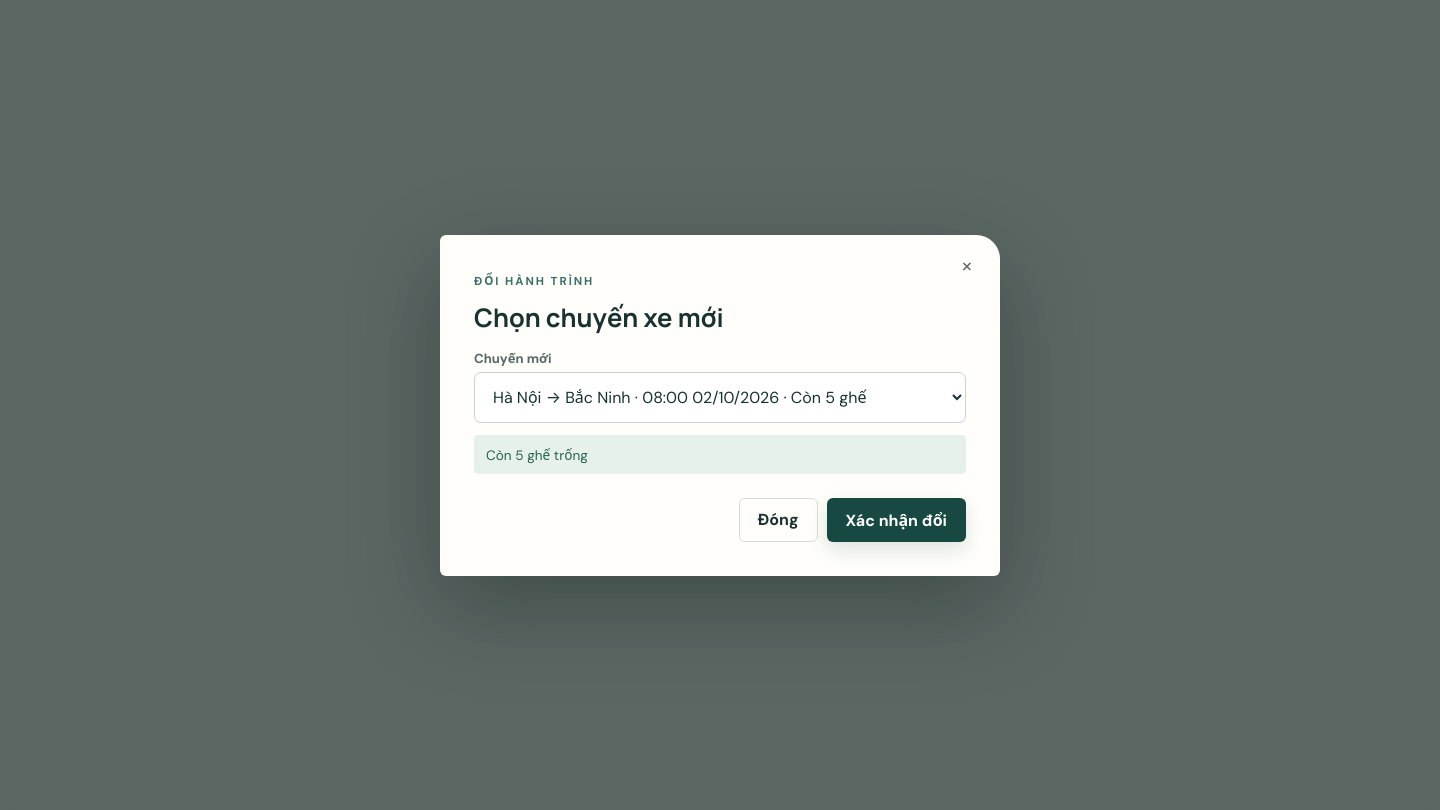
ChangeTripModal › không cho xác nhận chuyến hết ghế
The width and height of the screenshot is (1440, 810).
Select "Hà Nội → Hải Phòng · 09:00 03/10/2026 · Hết ghế" in the dropdown labelled "Chuyến mới". click: {"x": 720, "y": 397}
box: [474,372,966,422]
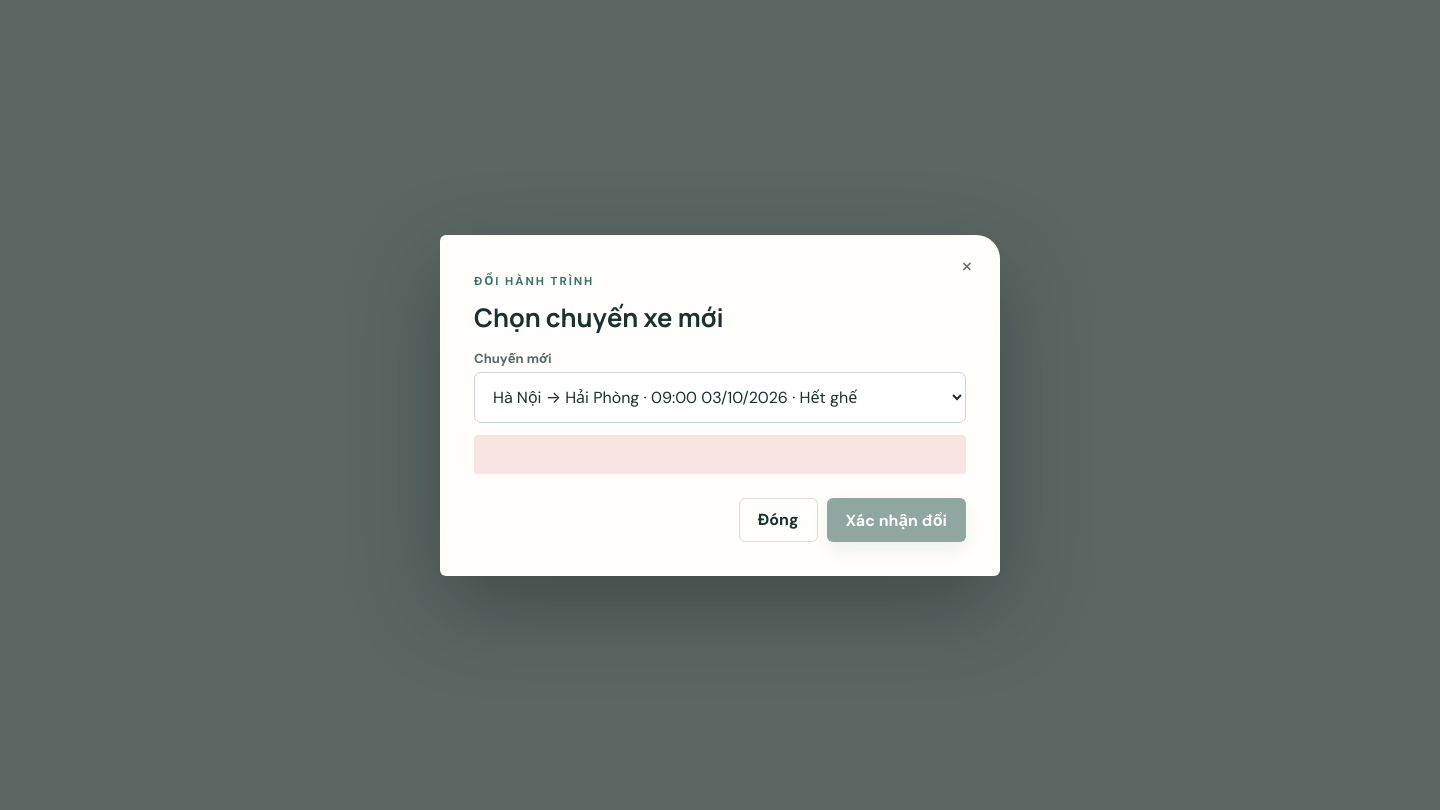
Expected: the button "Xác nhận đổi" is disabled, [826,498,966,542]
Expected: the text "Chuyến này đã hết ghế" is shown, [474,434,966,474]
